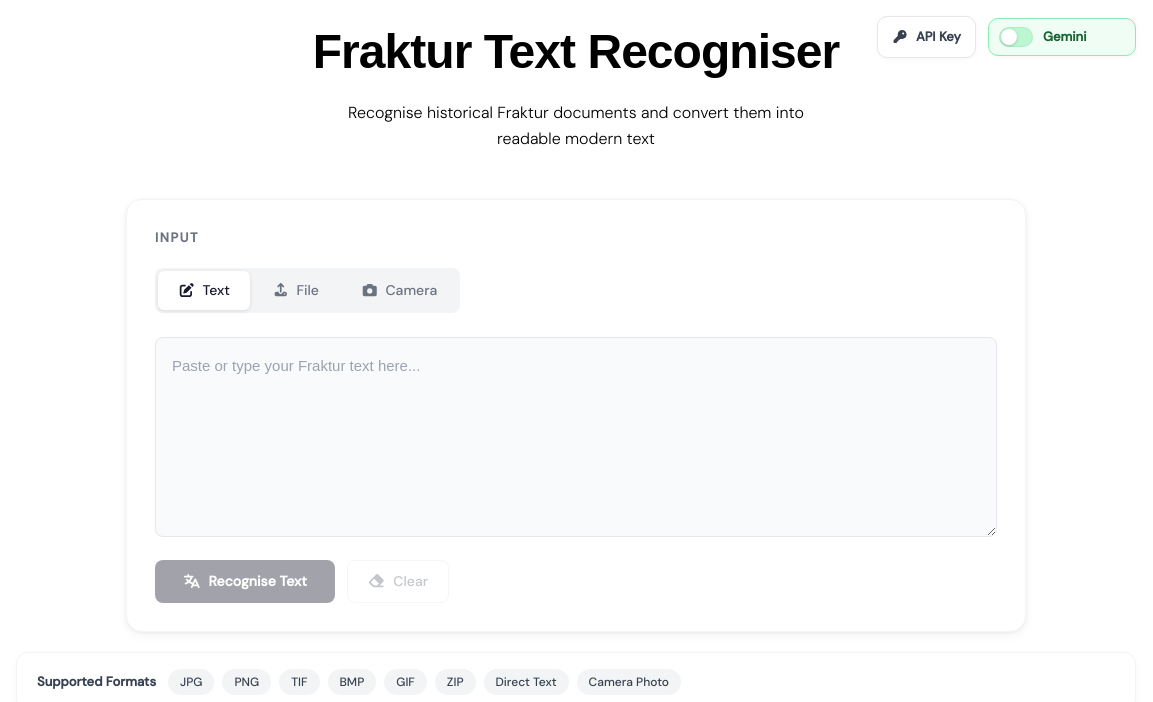
it: TranslatorPage › switches to File tab on click
Click the button "File".
click(295, 290)  # box [252, 271, 339, 310]
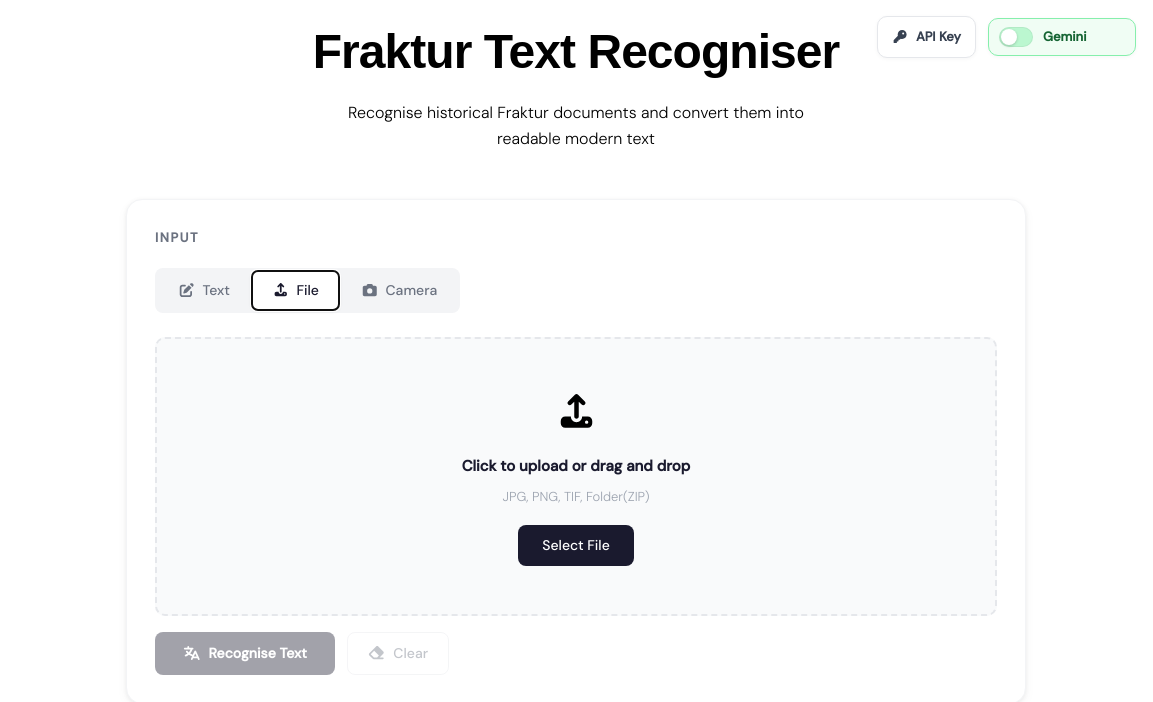
Now the text "Click to upload or drag and drop" is shown, box [462, 455, 690, 477]
